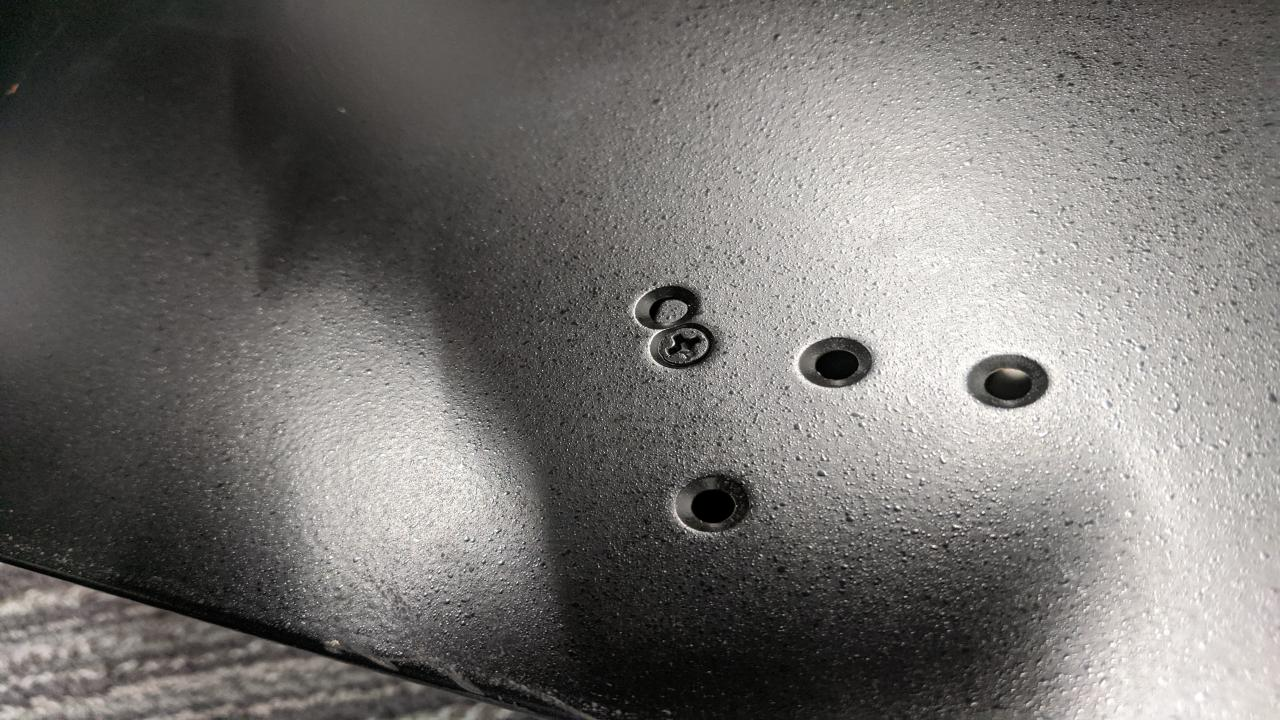CRS: (650, 325, 709, 367)
